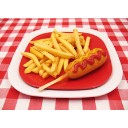frenchfries: (24, 28, 93, 75)
